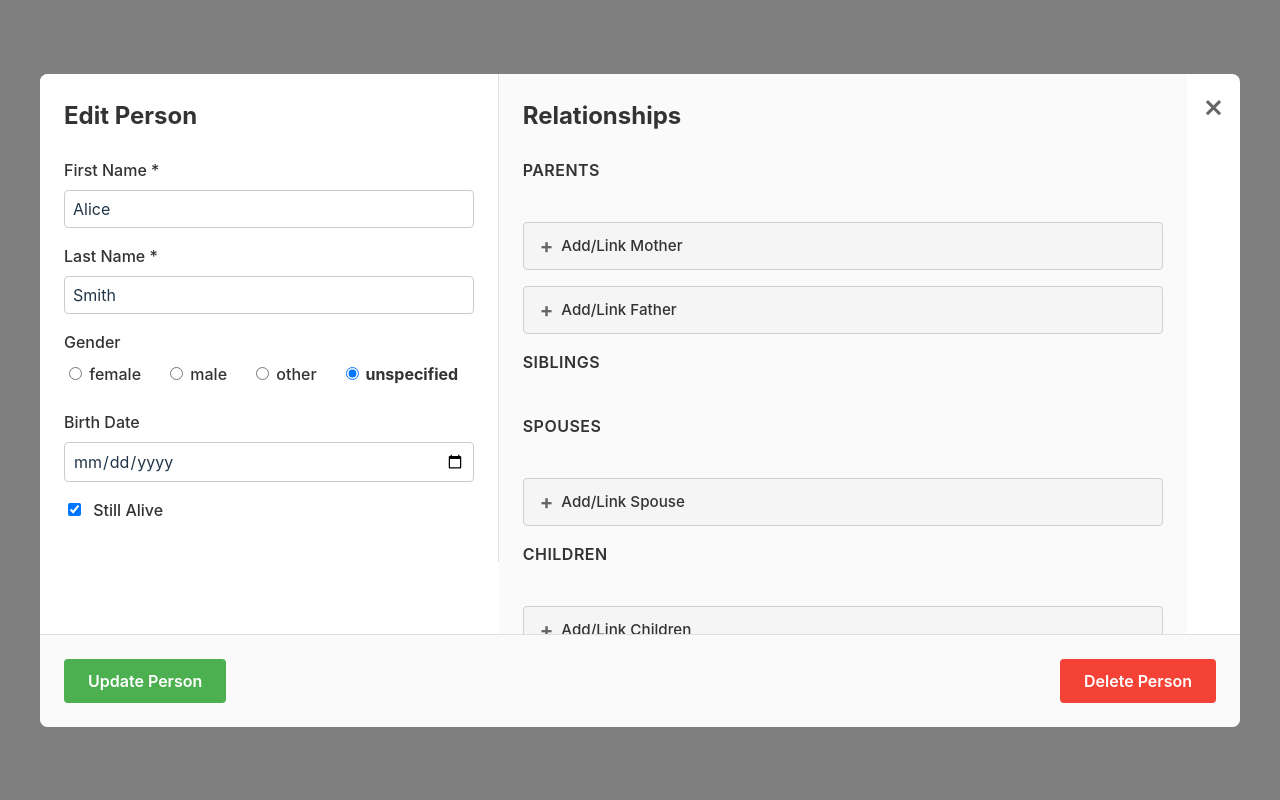
Scenario: PersonModal - Parents Section with CollapsibleActionPanel (Issue #53) › AC3: Create New shows QuickAddParent with gender pre-filled › should show QuickAddParent with gender=female when Create New Mother is clicked
Click the button with class "trigger-button" showing "+ Add/Link Mother". click: click(622, 246)
box: 523,222 -> 1163,270
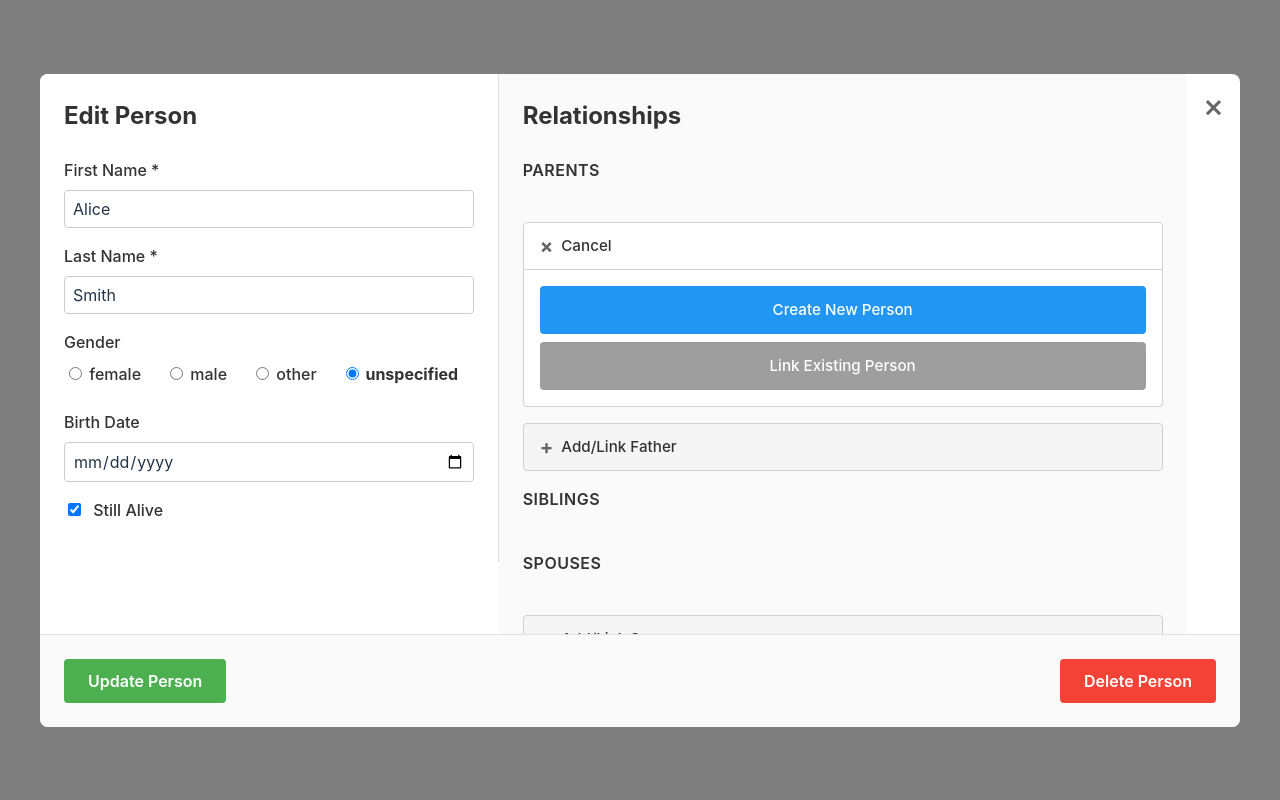
# WHEN user clicks Create New Person
Click the button "Create New Person". click: click(843, 310)
box: 540,286 -> 1146,334
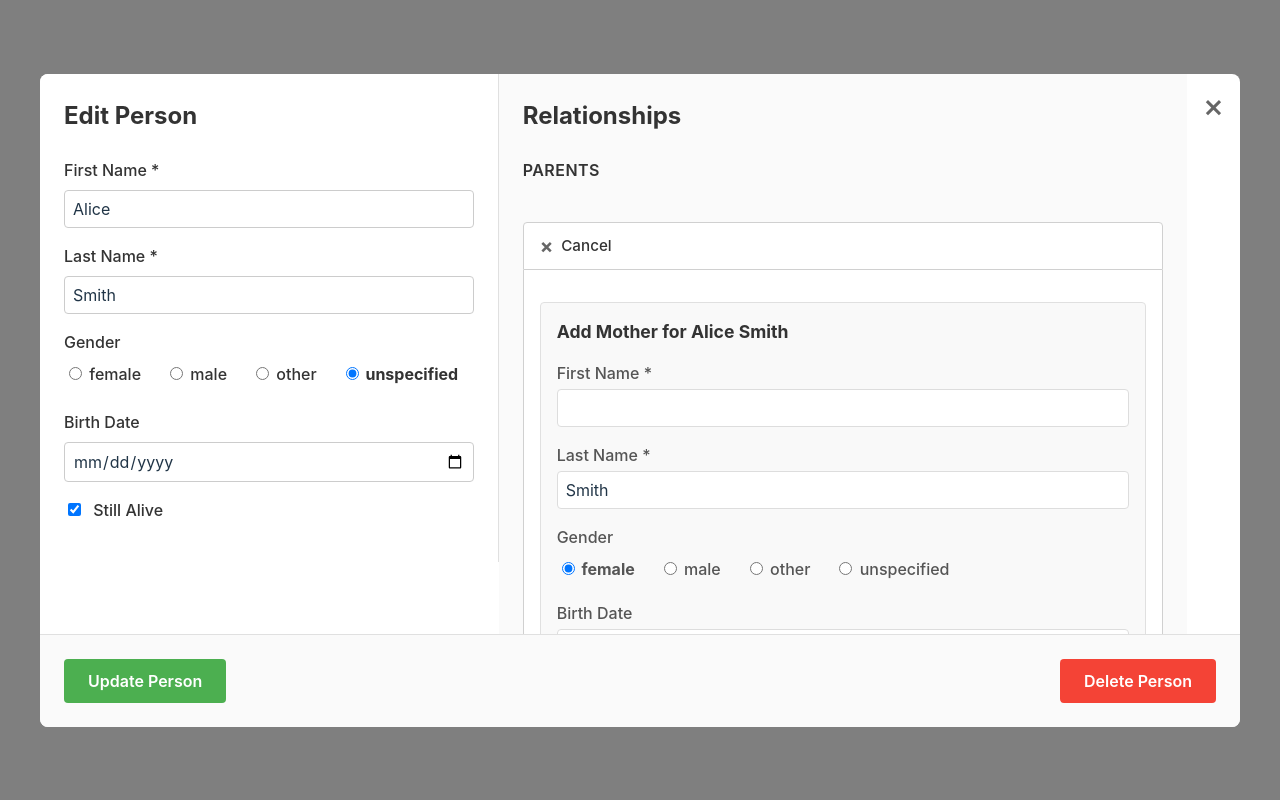
expect the element that starts with "Add" shows "Add Mother": met, box 540,302 -> 1146,634
expect the radio button labelled "female" below "Add" is checked: met, box 562,562 -> 575,575
